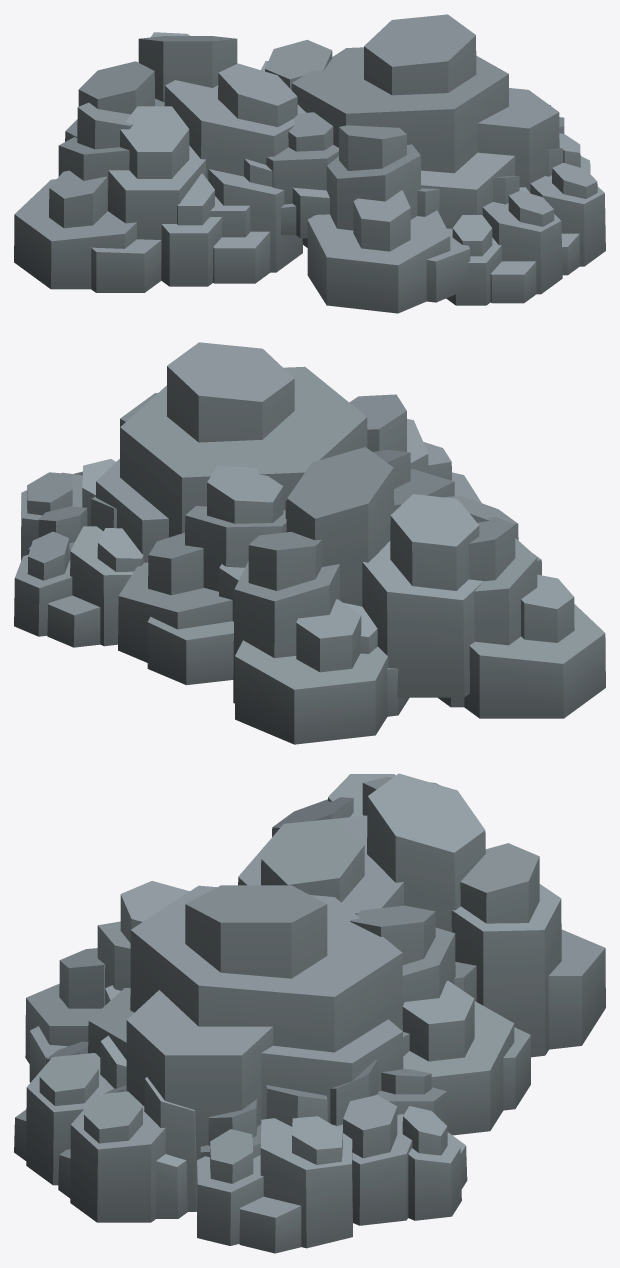
The model's file is Mountain Right.glb.
3 renders of one model, top to bottom at view 1: azimuth 30°, elevation 25°; view 2: azimuth 150°, elevation 25°; view 3: azimuth 270°, elevation 25°, orthographic. The views are drawn at different scales.
Visible parts, largest first — view 1: mountain_A; view 2: mountain_A; view 3: mountain_A.
Boxes of the visible parts, bbox=[...] form: mountain_A: bbox=[14, 14, 605, 313]; mountain_A: bbox=[14, 342, 605, 744]; mountain_A: bbox=[14, 773, 605, 1253].
Bounding box in the file's own units: 34.25 × 12.56 × 26.77.
1 material, 1 textured.
